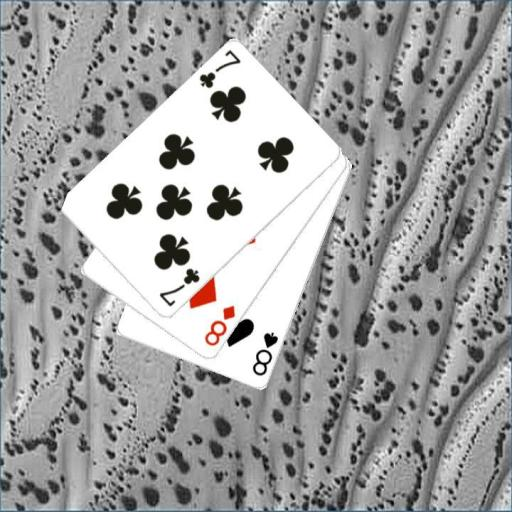7C: (196, 47, 243, 91), (156, 265, 202, 309)
8D: (201, 303, 238, 349)
8S: (249, 329, 280, 379)
